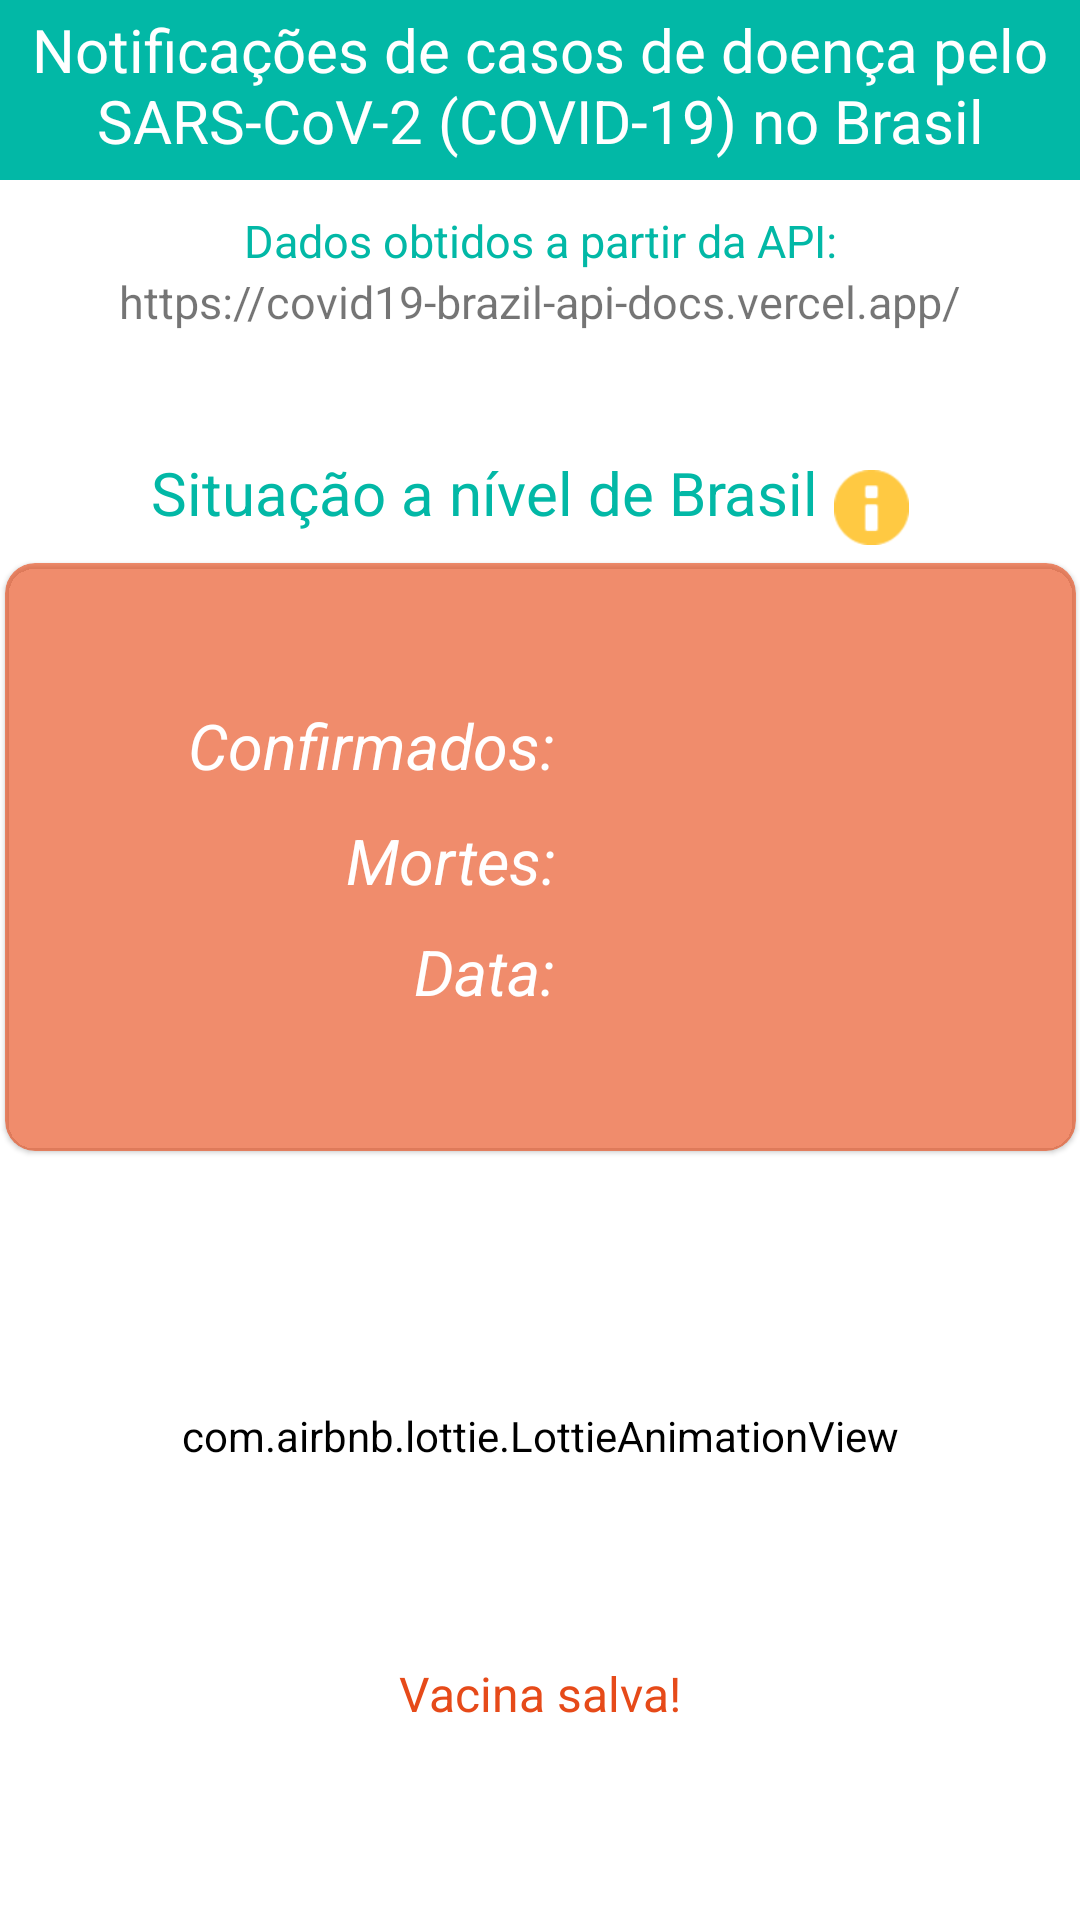

Screen size 1080px x 1920px. Icon name, then its center in pixels as [x,y]:
info: [871,507]
